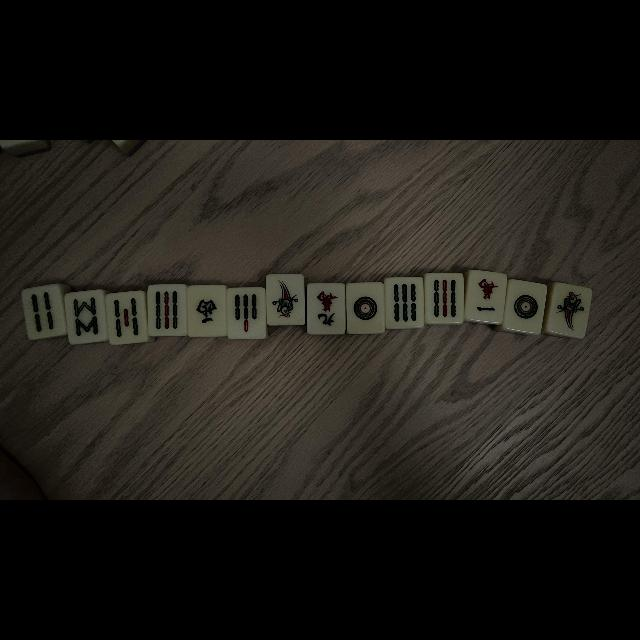b1: (550, 284, 588, 334), (267, 275, 303, 325)
b4: (24, 286, 64, 338)
b5: (108, 292, 146, 342)
b6: (386, 279, 422, 327)
b7: (228, 289, 266, 339)
b8: (67, 292, 105, 342)
b9: (148, 284, 186, 336), (426, 274, 462, 322)
c1: (468, 271, 504, 321)
c9: (308, 284, 346, 334)
d1: (506, 281, 544, 331), (346, 284, 384, 332)
ww: (187, 287, 225, 335)
